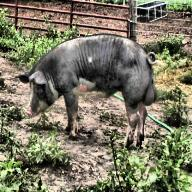boar: (22, 32, 157, 148)
